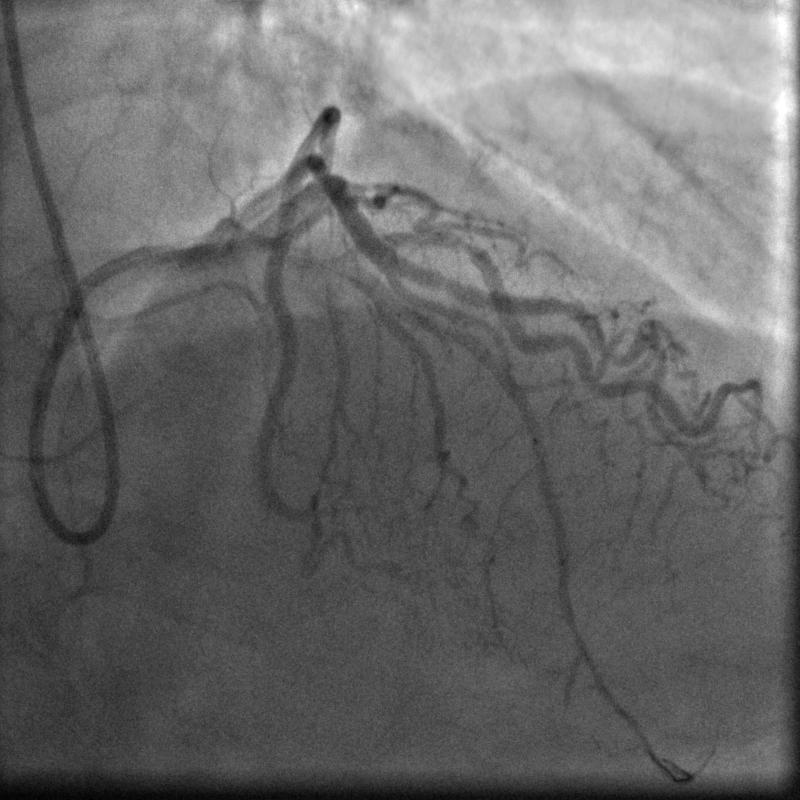Stenosis: (434, 221, 481, 269)
